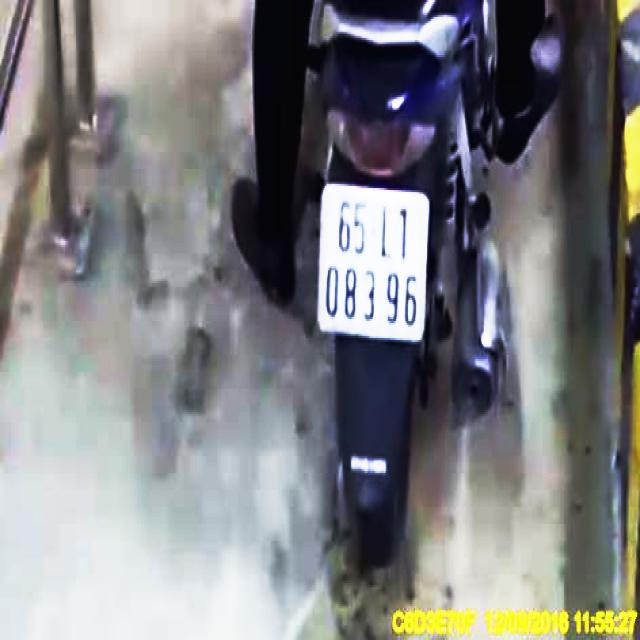license_plate: (318, 186, 431, 344)
